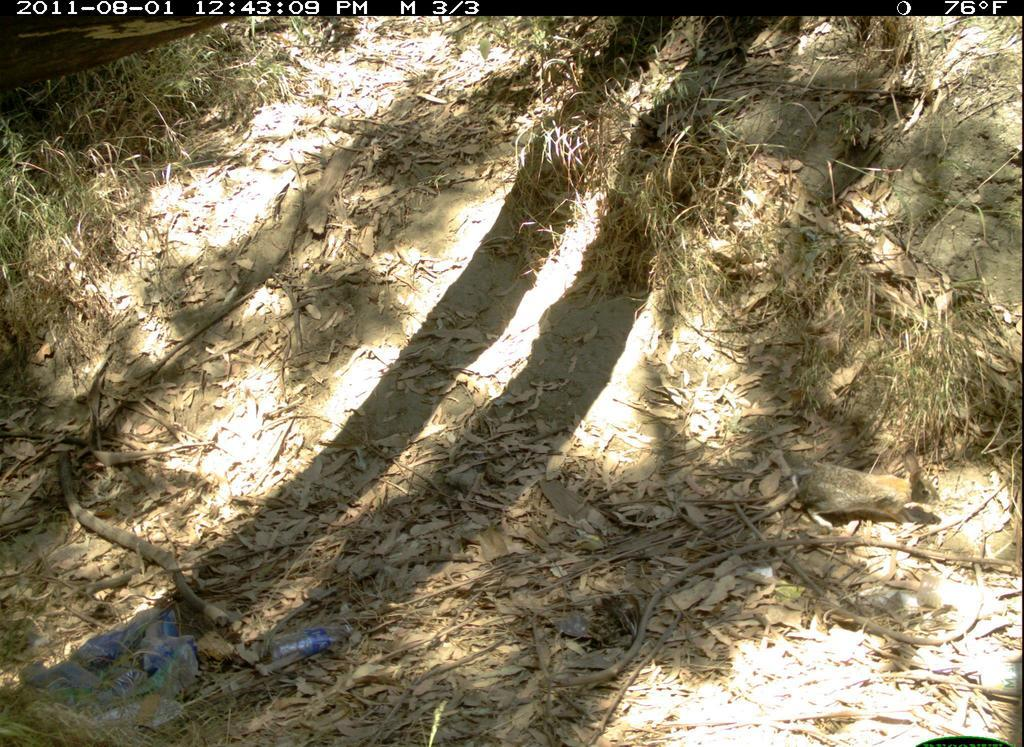rabbit: (790, 436, 961, 536)
